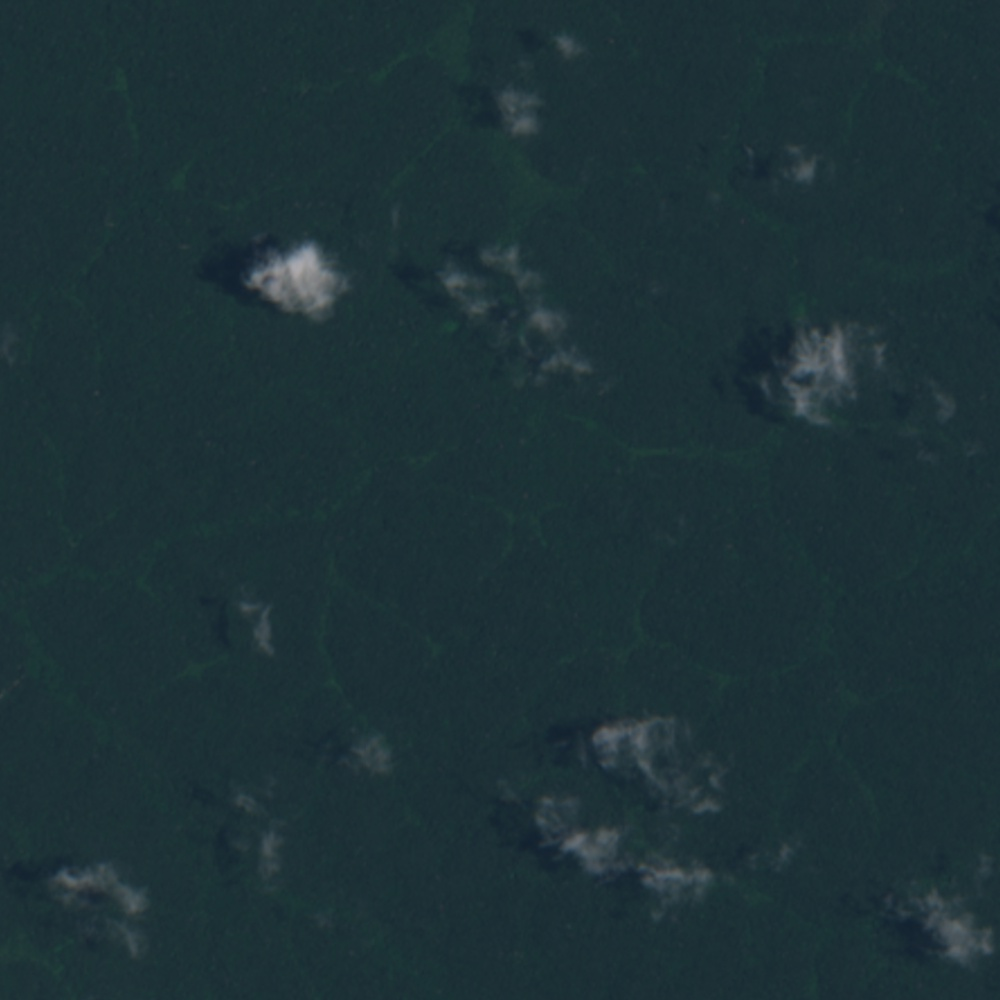illegal: (1, 597, 178, 803), (263, 882, 409, 966)
